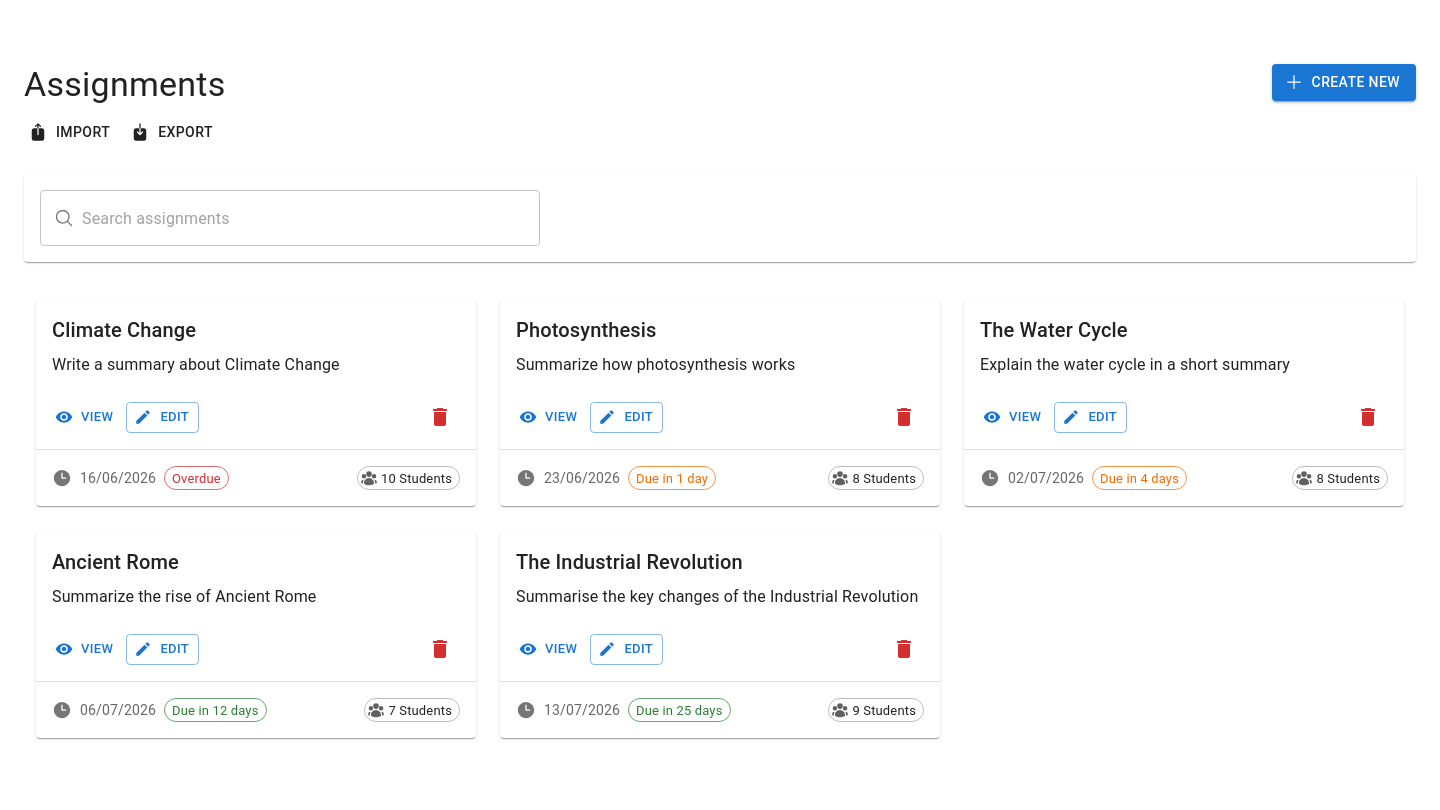
Test case: created assignments survive a remount › gives each created assignment its own id instead of reusing the server's
Expected: the link "Climate Change" is shown, top-left (52, 318), bottom-right (196, 342)
Click the button "Create New" at (1344, 82), box top-left (1272, 64), bottom-right (1416, 100)
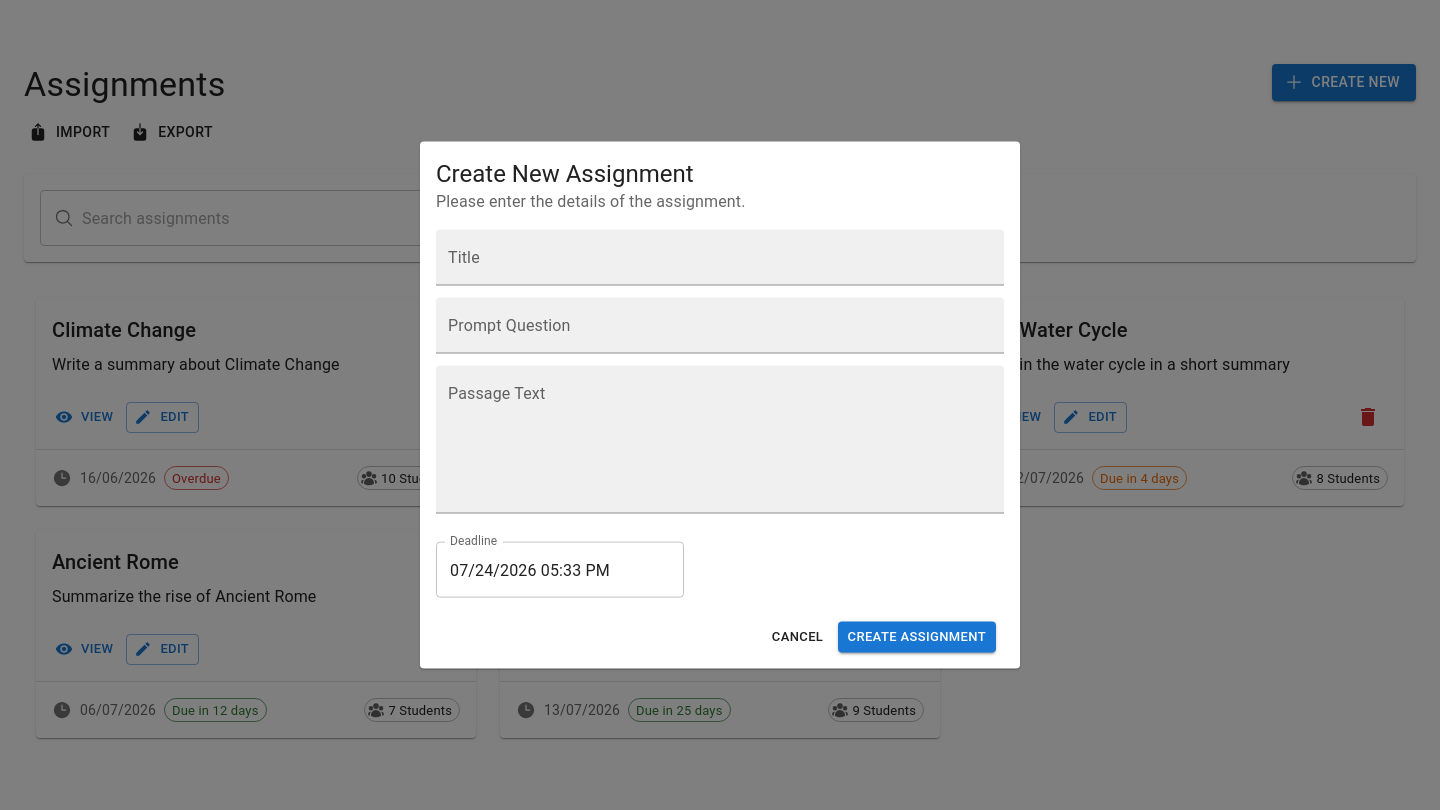
Type "Volcanoes" into the field labelled "Title" at (720, 258), box top-left (436, 230), bottom-right (1004, 286)
Type "How volcanoes form" into the field labelled "Prompt Question" at (720, 326), box top-left (436, 298), bottom-right (1004, 354)
Click the button "Create Assignment" at (917, 637), box top-left (838, 622), bottom-right (996, 652)
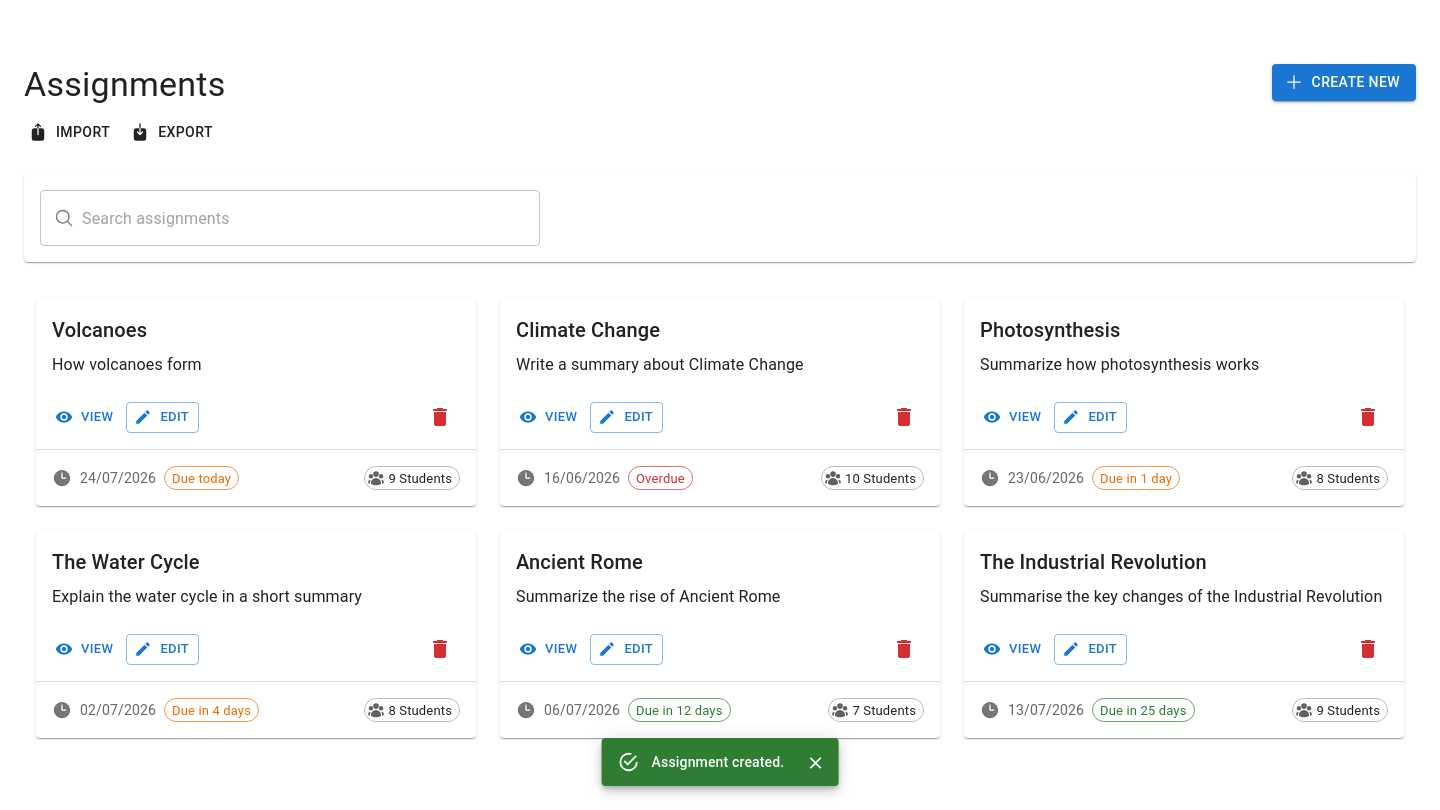
Expected: the heading "Volcanoes" is shown, top-left (52, 318), bottom-right (147, 342)
Click the button "Create New" at (1344, 82), box top-left (1272, 64), bottom-right (1416, 100)
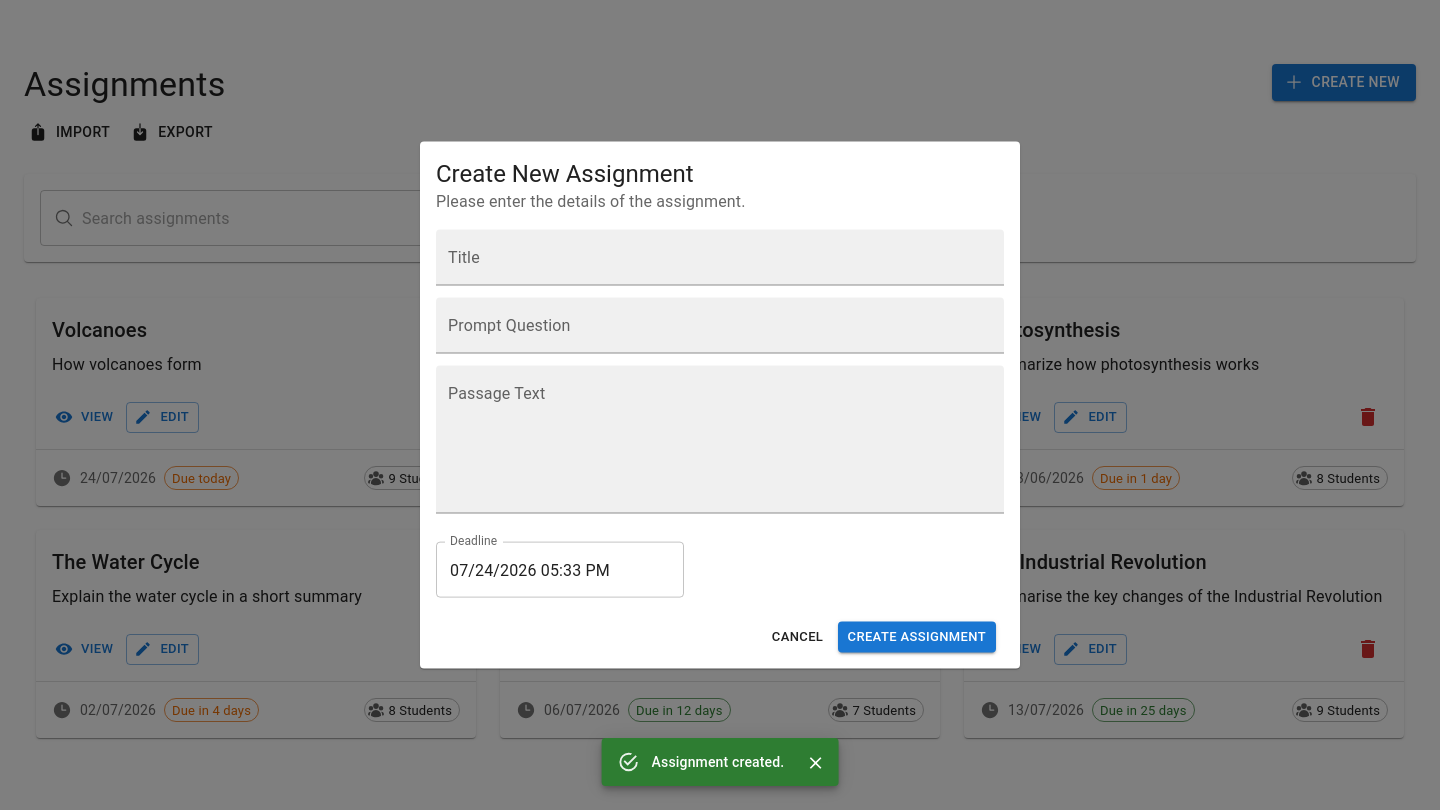
Type "Glaciers" into the field labelled "Title" at (720, 258), box top-left (436, 230), bottom-right (1004, 286)
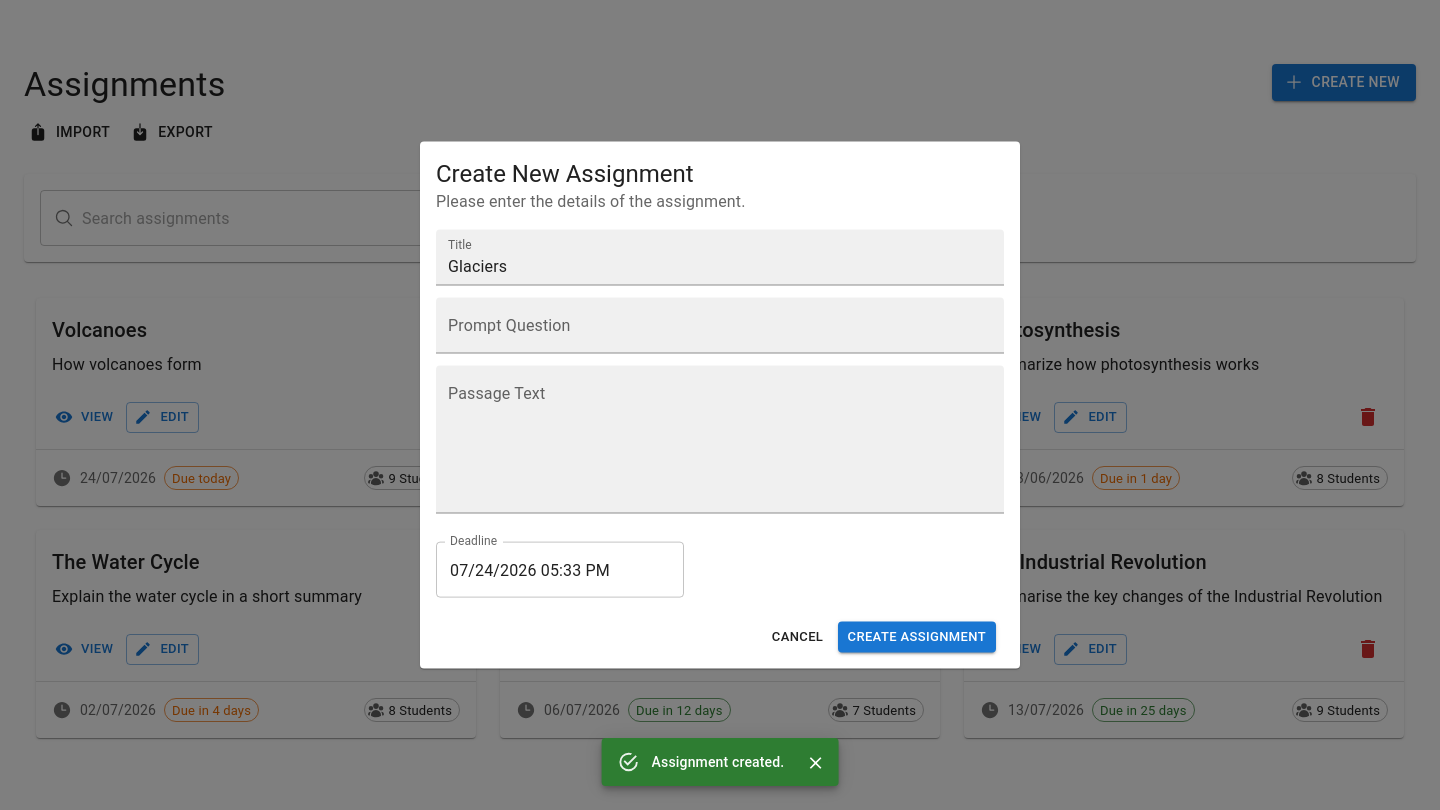
Type "How glaciers move" into the field labelled "Prompt Question" at (720, 326), box top-left (436, 298), bottom-right (1004, 354)
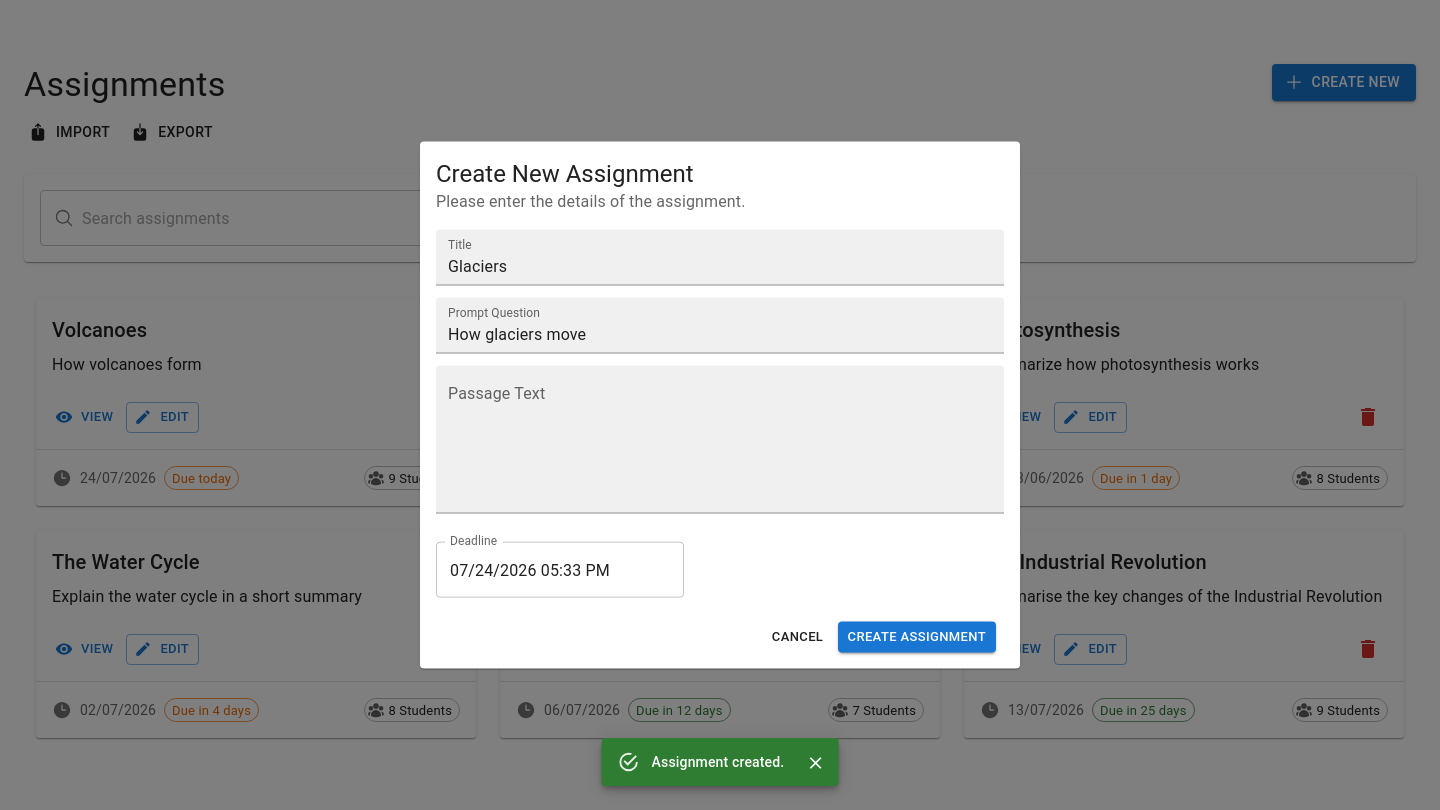
Click the button "Create Assignment" at (917, 637), box top-left (838, 622), bottom-right (996, 652)
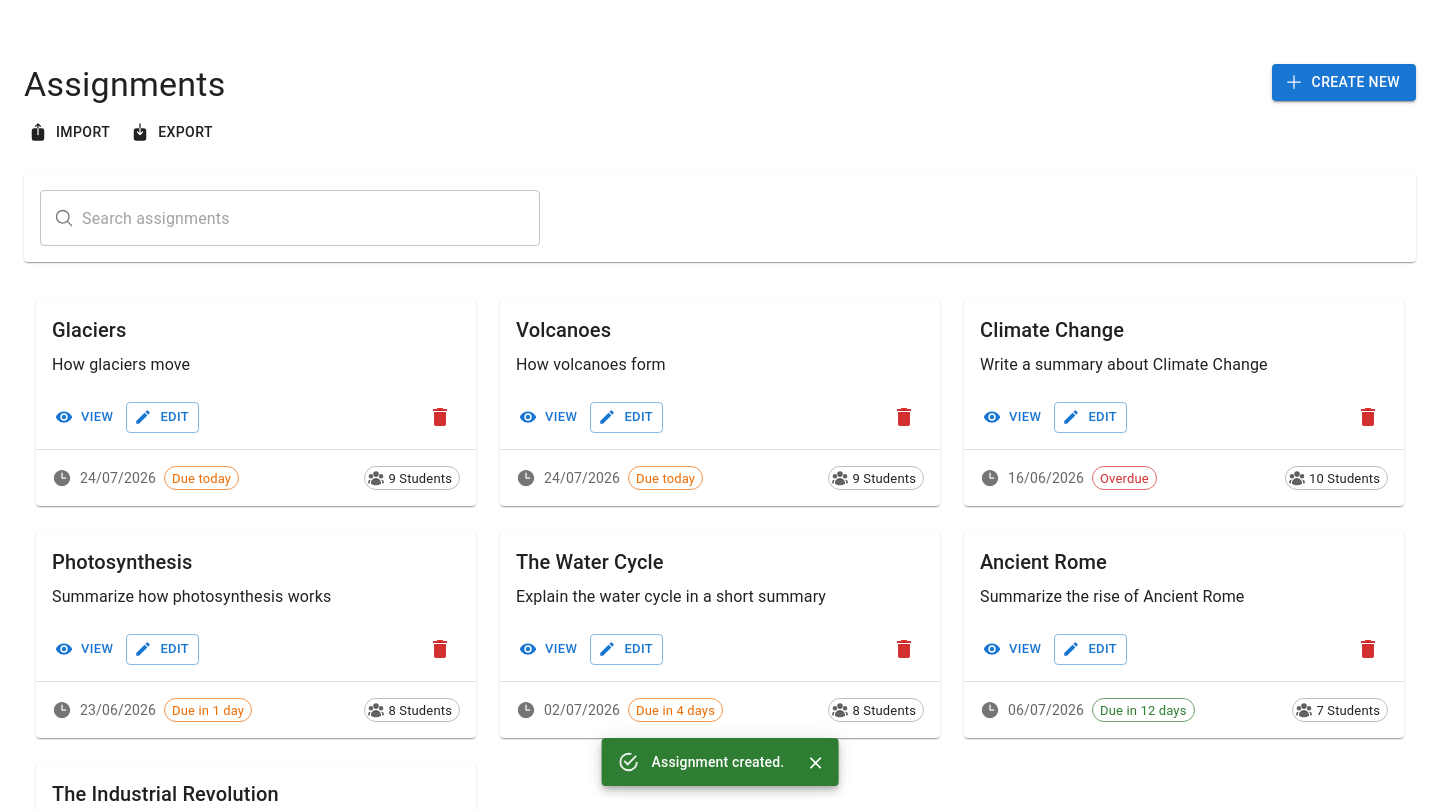
Expected: the heading "Volcanoes" is shown, top-left (516, 318), bottom-right (611, 342)
Expected: the heading "Glaciers" is shown, top-left (52, 318), bottom-right (126, 342)
